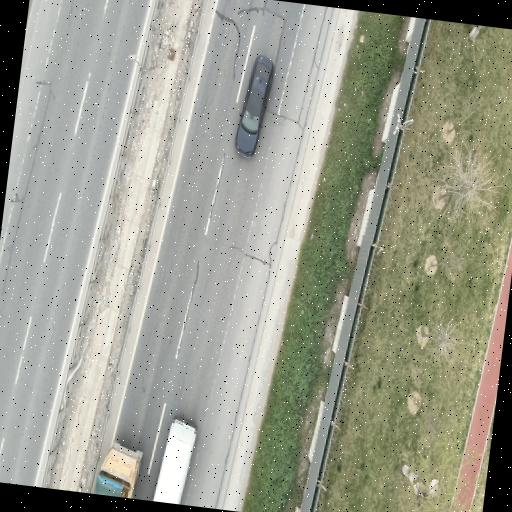car: (236, 56, 273, 156)
truck: (153, 417, 197, 503), (95, 443, 142, 498)
